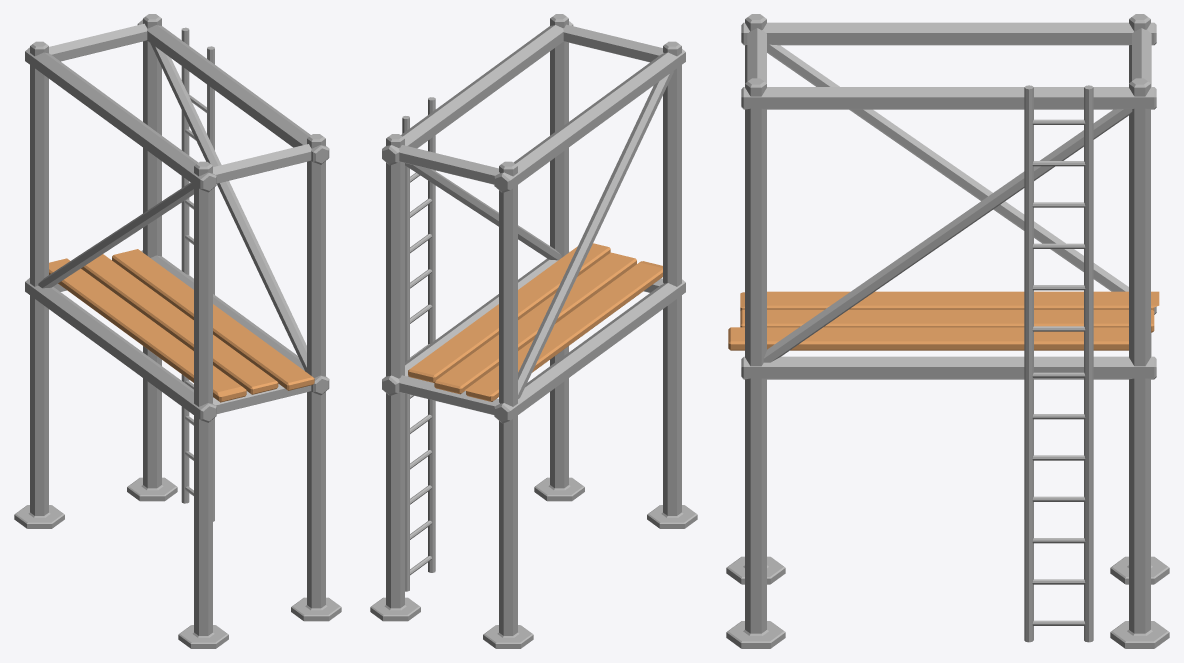
The model's file is Scaffolding B.fbx.
3 views of the same model, side by side, from view 1: azimuth 30°, elevation 25°; view 2: azimuth 150°, elevation 25°; view 3: azimuth 270°, elevation 25° (orthographic). The views are drawn at different scales.
Visible parts, largest first — view 1: Scaffolding B; view 2: Scaffolding B; view 3: Scaffolding B.
Boxes of the visible parts, left/top/right/bottom form: Scaffolding B: left=14, top=14, right=341, bottom=648; Scaffolding B: left=370, top=14, right=697, bottom=648; Scaffolding B: left=726, top=14, right=1169, bottom=648.
Size of the model in its own units: 228 by 687 by 495.
